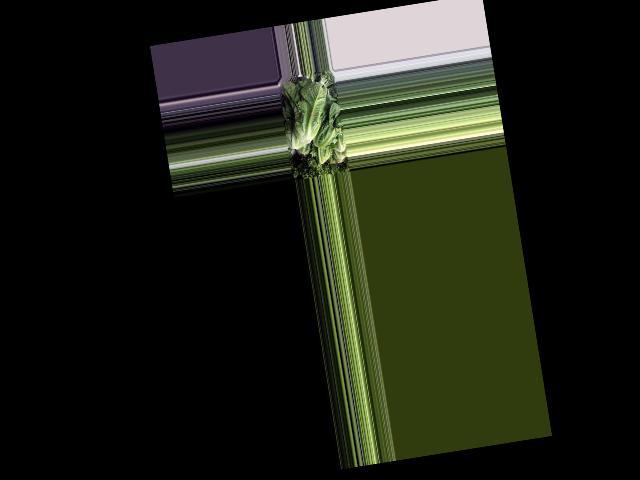lettuce: (308, 100, 344, 150)
